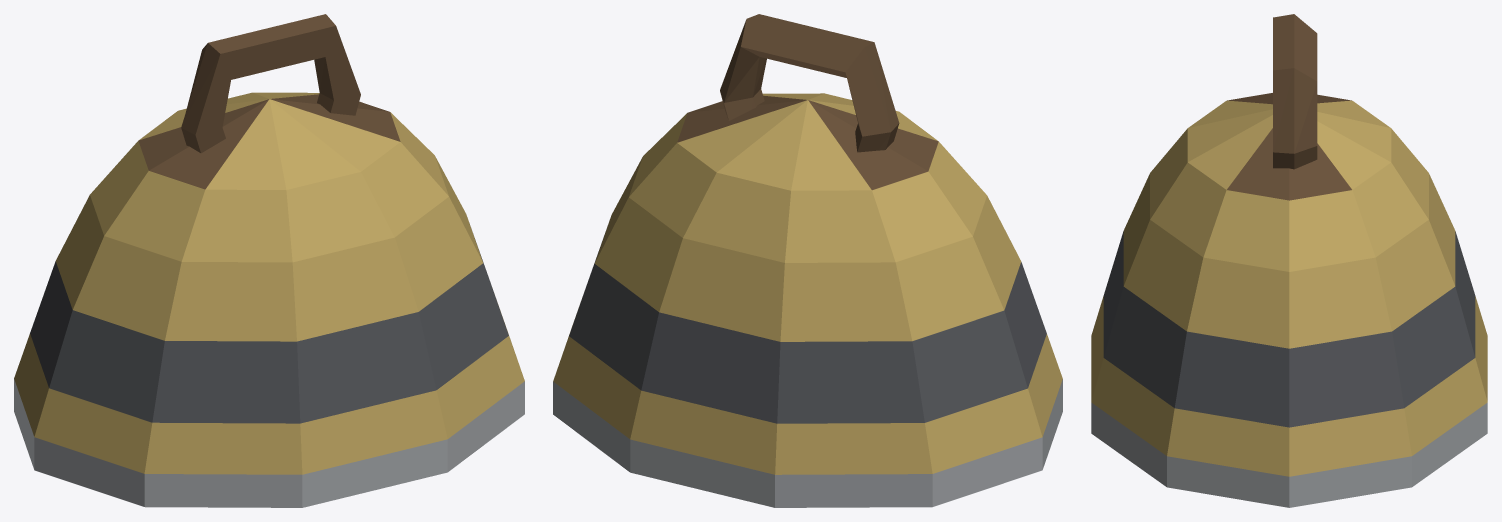
The model's file is sheep_bell.fbx.
3 views of the same model, side by side, from view 1: azimuth 30°, elevation 25°; view 2: azimuth 150°, elevation 25°; view 3: azimuth 270°, elevation 25° (orthographic). The views are drawn at different scales.
Visible parts, largest first — view 1: sheep_bell; view 2: sheep_bell; view 3: sheep_bell.
Boxes of the visible parts, x1,y1,x2,y2 form: sheep_bell: (14, 14, 524, 507); sheep_bell: (553, 14, 1062, 507); sheep_bell: (1091, 14, 1487, 507).
Bounding box in the file's own units: 0.09 × 0.07 × 0.07.
